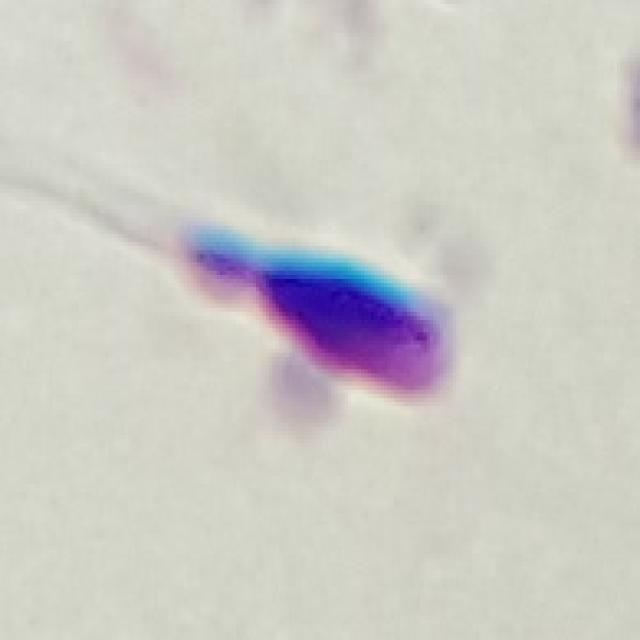abnormal sperm: (25, 162, 464, 411)
